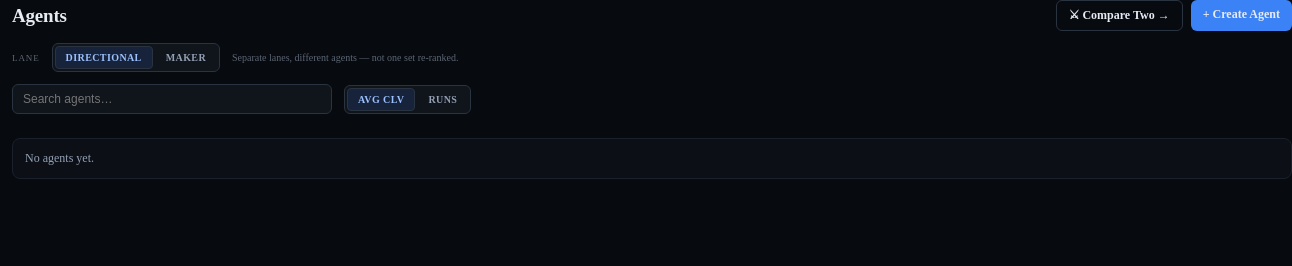
AgentsScreen — live maker result loading (F-9) › loads the maker result through the API only after Maker mode opens
Click the radio button labelled "Maker" at (186, 58), box [155,46,217,69]
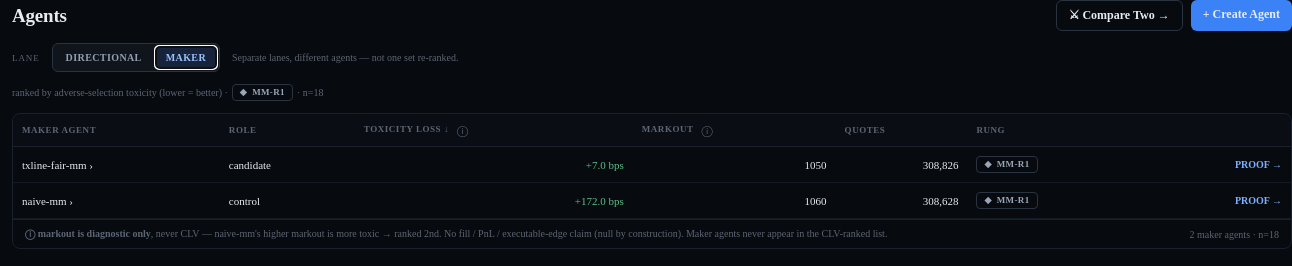
expect the text "+7.0 bps" is shown: met, box [586,158,624,170]
